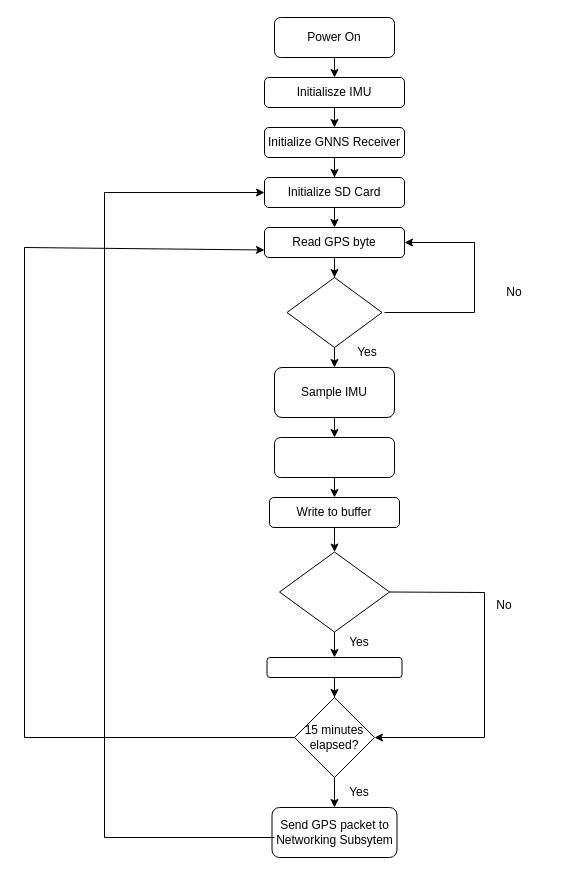
Some shapes in this 562 by 875 pixel diagram are drawn without their labels. The centre of each missing label's shape, as x and y in pixels:
"14ms elapsed?" belongs at point 334,312.
"Apply high-pass filter" belongs at point 334,457.
"Buffer full? (> 500 rows)" belongs at point 334,591.
"Flush buffer to SD" belongs at point 334,667.
